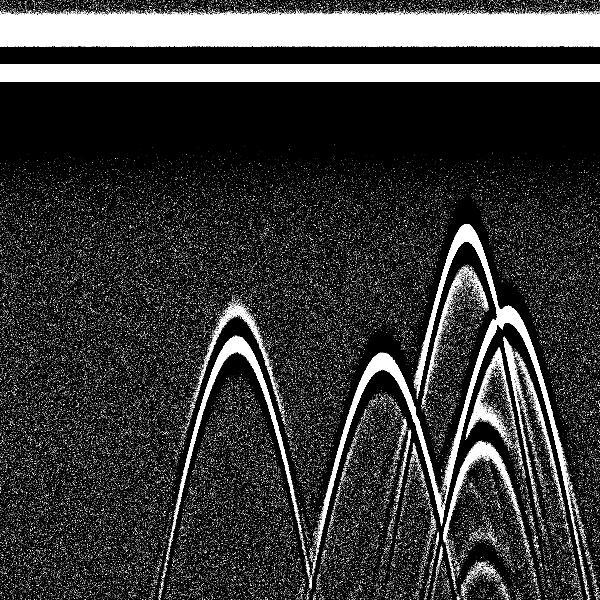pipe: (333, 12, 426, 431), (459, 6, 555, 392), (191, 6, 285, 389), (424, 3, 503, 311)
